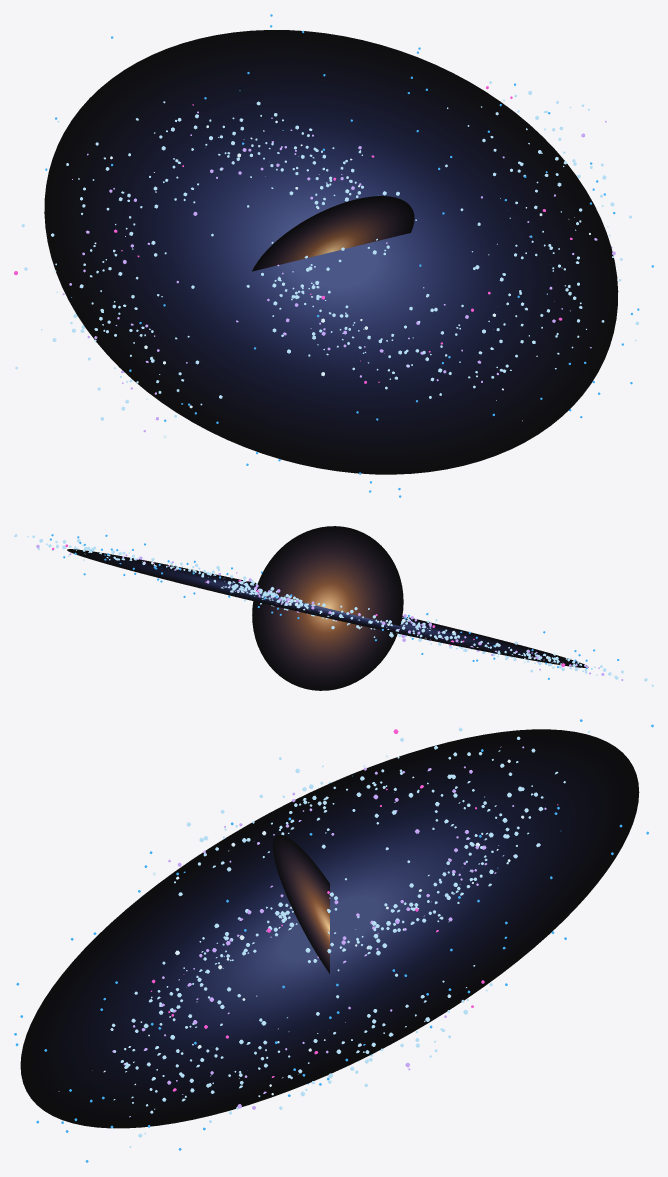
The model's file is galaxy.glb.
The picture shows the model from 3 angles, top to bottom: view 1: azimuth 30°, elevation 25°; view 2: azimuth 150°, elevation 25°; view 3: azimuth 270°, elevation 25°; orthographic projection. The views are drawn at different scales.
Parts seen in each view (by area): view 1: spin, body; view 2: body, spin; view 3: spin, body.
Boxes of the visible parts, x1,y1,x2,y2 form: spin: (14, 14, 653, 497); body: (252, 196, 414, 271); body: (252, 526, 403, 690); spin: (14, 534, 653, 686); spin: (14, 719, 653, 1162); body: (273, 834, 329, 973).
Bounding box in the file's own units: 1 × 0.3941 × 0.7328.
7 materials, 2 textured.
